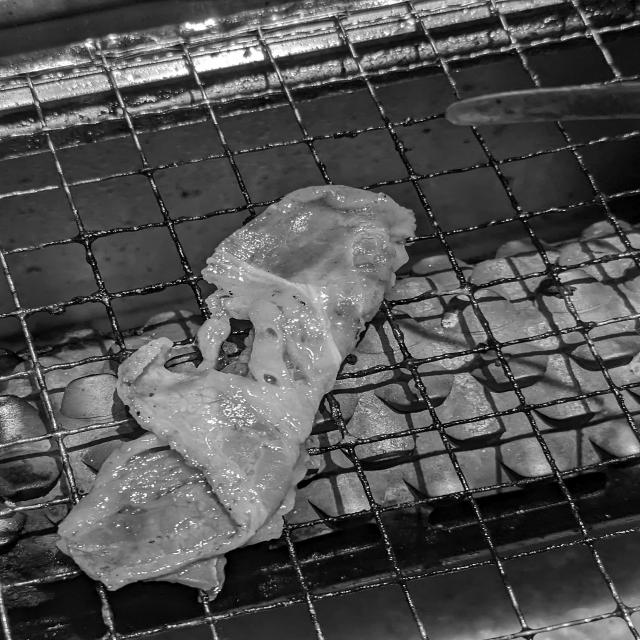OK undercooked beef,: (37, 176, 429, 608)
